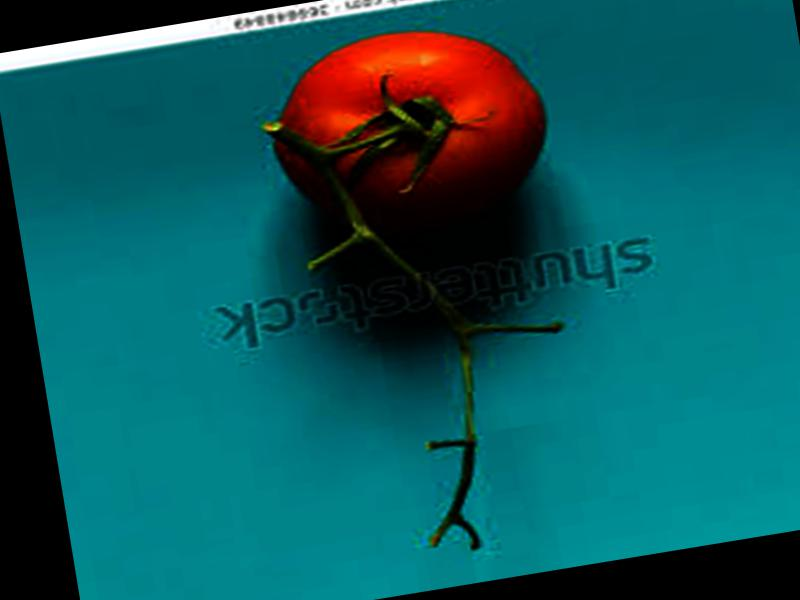Tomato: (258, 14, 557, 247)
